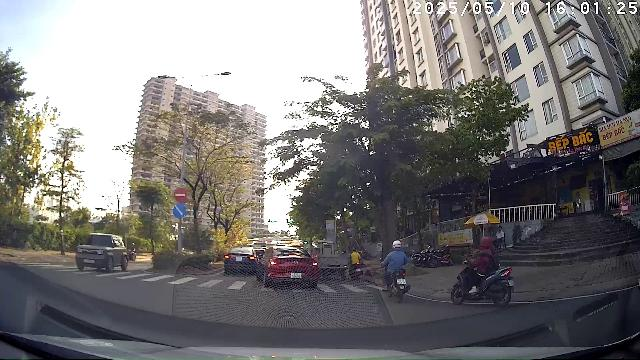102-cam-di-nguoc-chieu: (174, 187, 188, 202)
302a-huong-phai-di-vong-chuong-ngai-vat-1: (173, 204, 186, 218)
